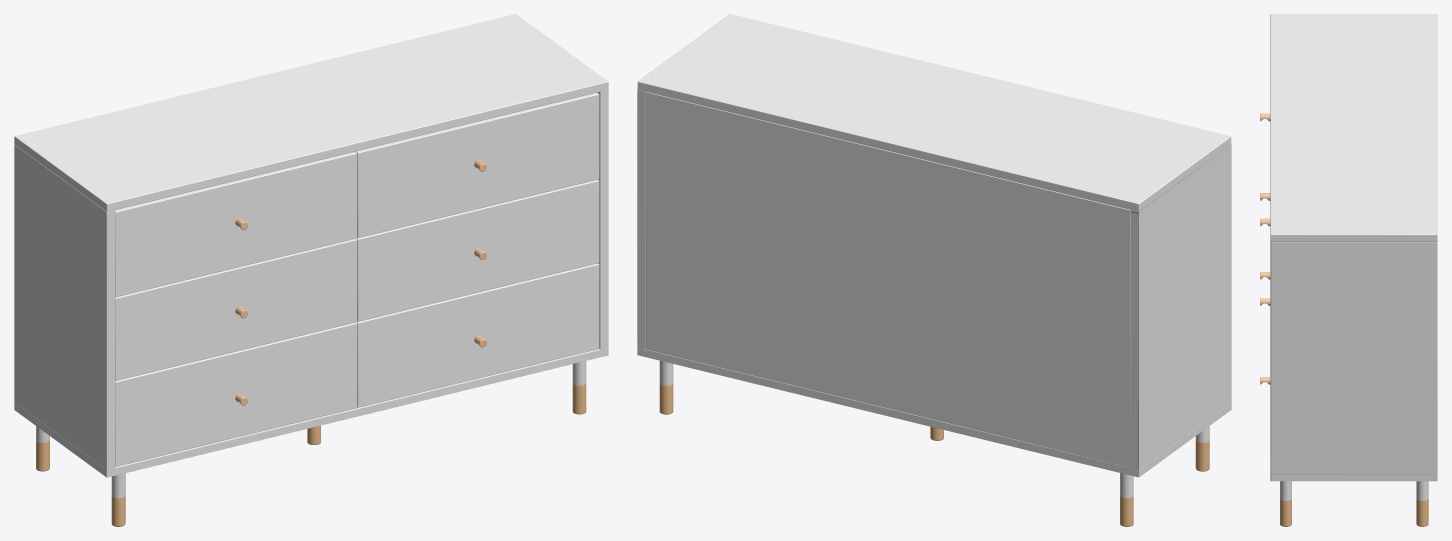
File: cabinet2.glb
3 renders of one model, left to right at view 1: azimuth 30°, elevation 25°; view 2: azimuth 150°, elevation 25°; view 3: azimuth 270°, elevation 25°, orthographic. The views are drawn at different scales.
Parts seen in each view (by area): view 1: Object_4; view 2: Object_4; view 3: Object_4.
Boxes of the visible parts, x1,y1,x2,y2 form: Object_4: [14, 14, 608, 526]; Object_4: [637, 14, 1231, 526]; Object_4: [1260, 14, 1437, 526].
Size of the model in its own units: 1.18 by 0.745 by 0.4.
Materials: 1 (1 with a texture image).
